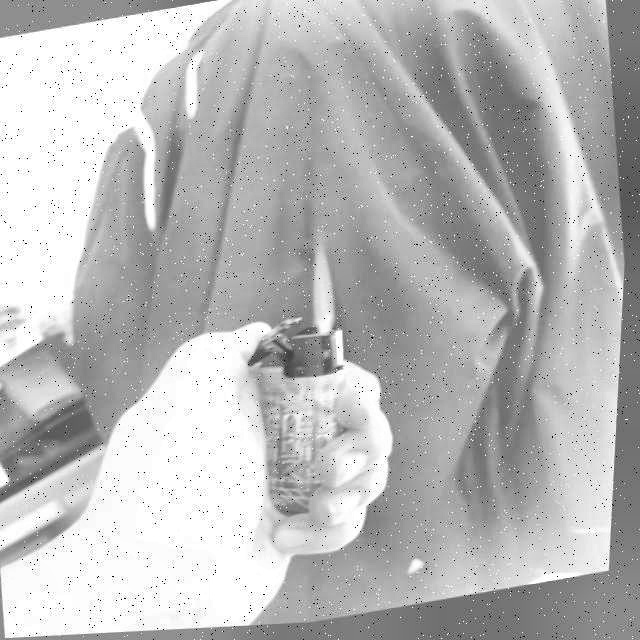Fire: (304, 245, 344, 342)
